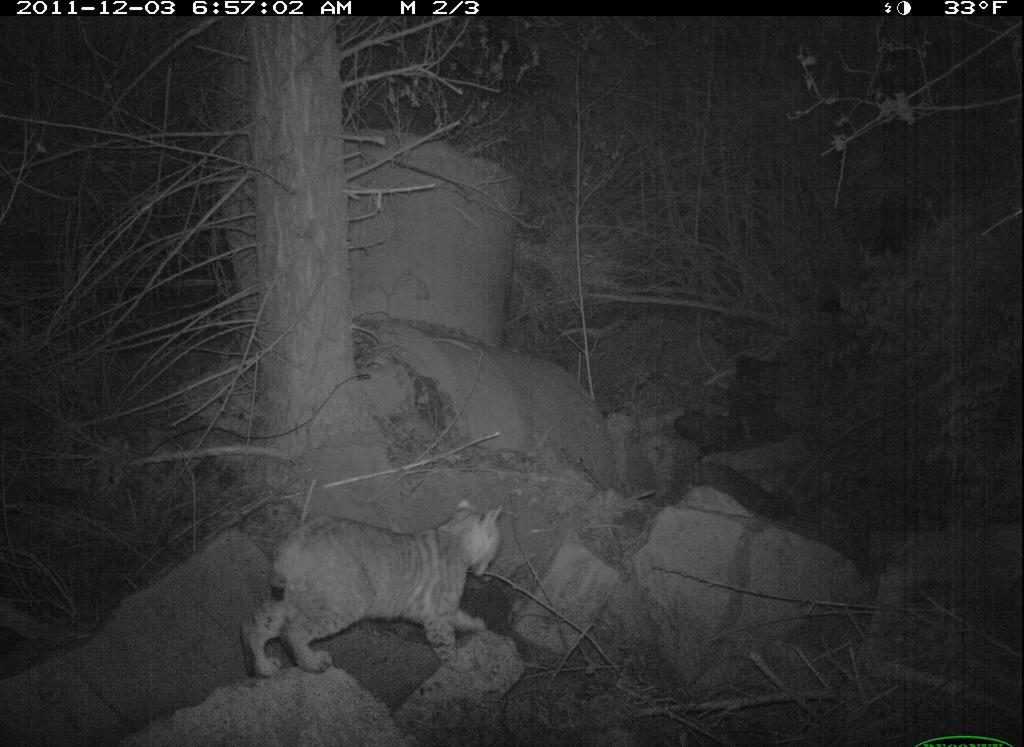bobcat: (239, 496, 514, 681)
